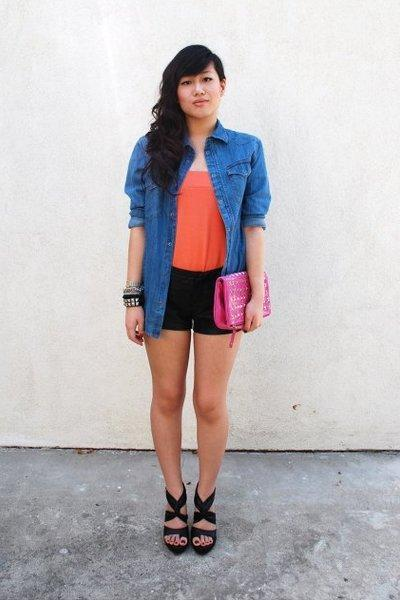bag: (213, 273, 257, 339)
jacket: (125, 121, 270, 337)
shirt: (173, 171, 225, 271)
shoe: (162, 492, 217, 555)
shorts: (162, 266, 227, 334)
